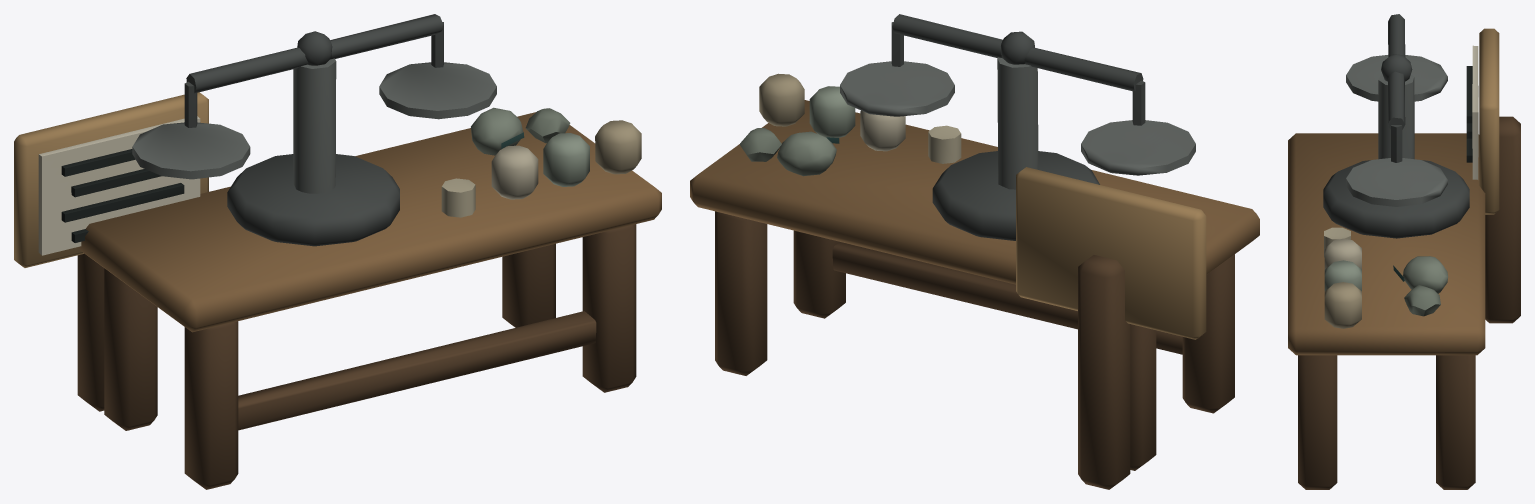
Rendered from assay_bench_a_lod1.glb.
3 views of the same model, side by side, from view 1: azimuth 30°, elevation 25°; view 2: azimuth 150°, elevation 25°; view 3: azimuth 270°, elevation 25° (orthographic). The views are drawn at different scales.
Parts seen in each view (by area): view 1: Surface.001; view 2: Surface.001; view 3: Surface.001.
Boxes of the visible parts, left/top/right/bottom form: Surface.001: left=14, top=14, right=661, bottom=489; Surface.001: left=690, top=14, right=1259, bottom=489; Surface.001: left=1288, top=14, right=1520, bottom=489.
Size of the model in its own units: 2.69 by 1.82 by 1.18.
